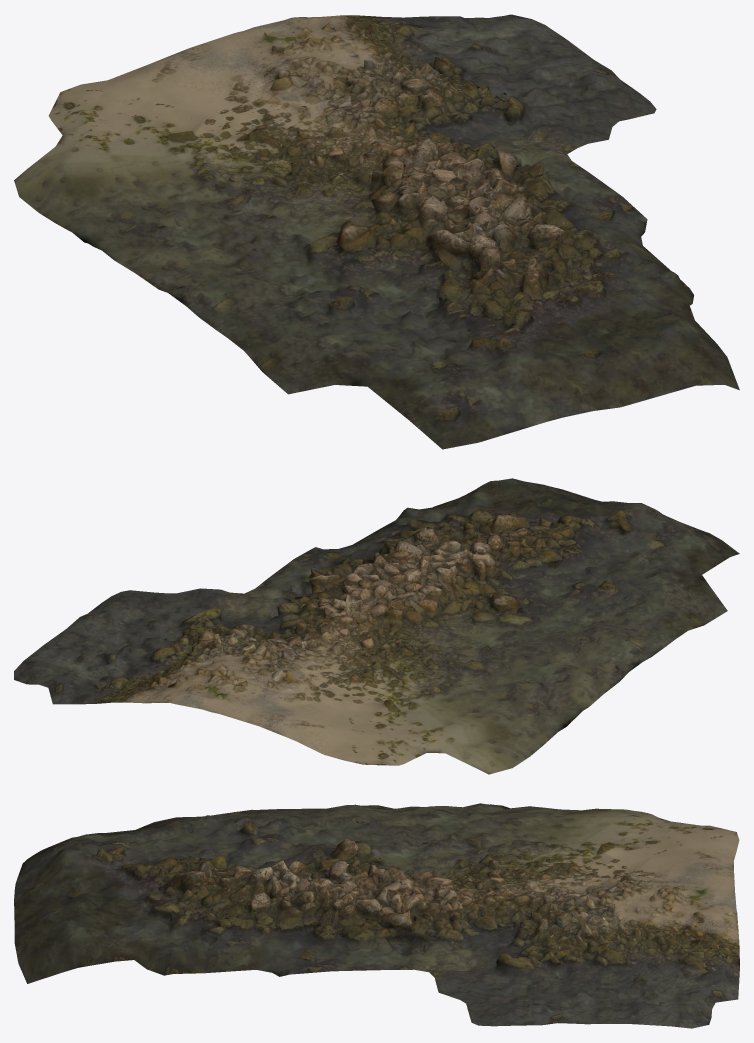
3 views of the same model, one above another, from view 1: azimuth 30°, elevation 25°; view 2: azimuth 150°, elevation 25°; view 3: azimuth 270°, elevation 25° (orthographic). The views are drawn at different scales.
Visible parts, largest first — view 1: coast_rocks_03_lod0; view 2: coast_rocks_03_lod0; view 3: coast_rocks_03_lod0.
Boxes of the visible parts, <box> form: coast_rocks_03_lod0: <box>14,14,739,449</box>; coast_rocks_03_lod0: <box>14,478,739,774</box>; coast_rocks_03_lod0: <box>14,803,739,1028</box>.
Bounding box in the file's own units: 21.12 × 3.13 × 28.26.
1 material, 1 textured.
